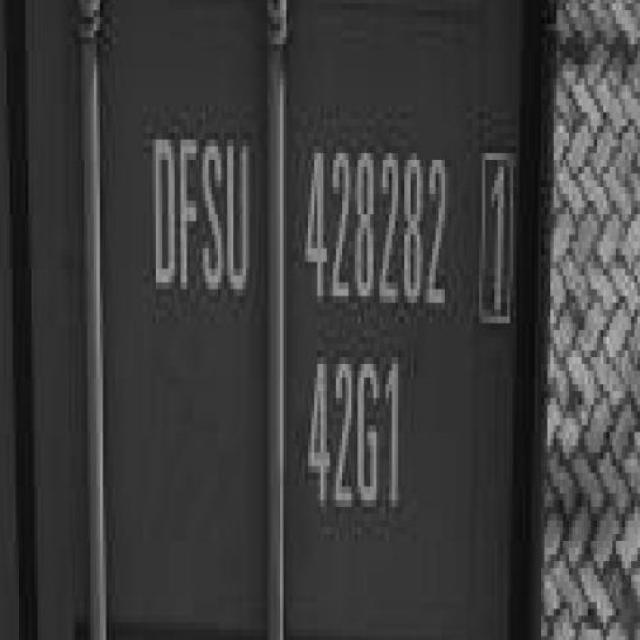dv: (476, 136, 520, 330)
owner: (140, 125, 256, 305)
serial: (297, 140, 456, 314)
size: (299, 348, 414, 518)
